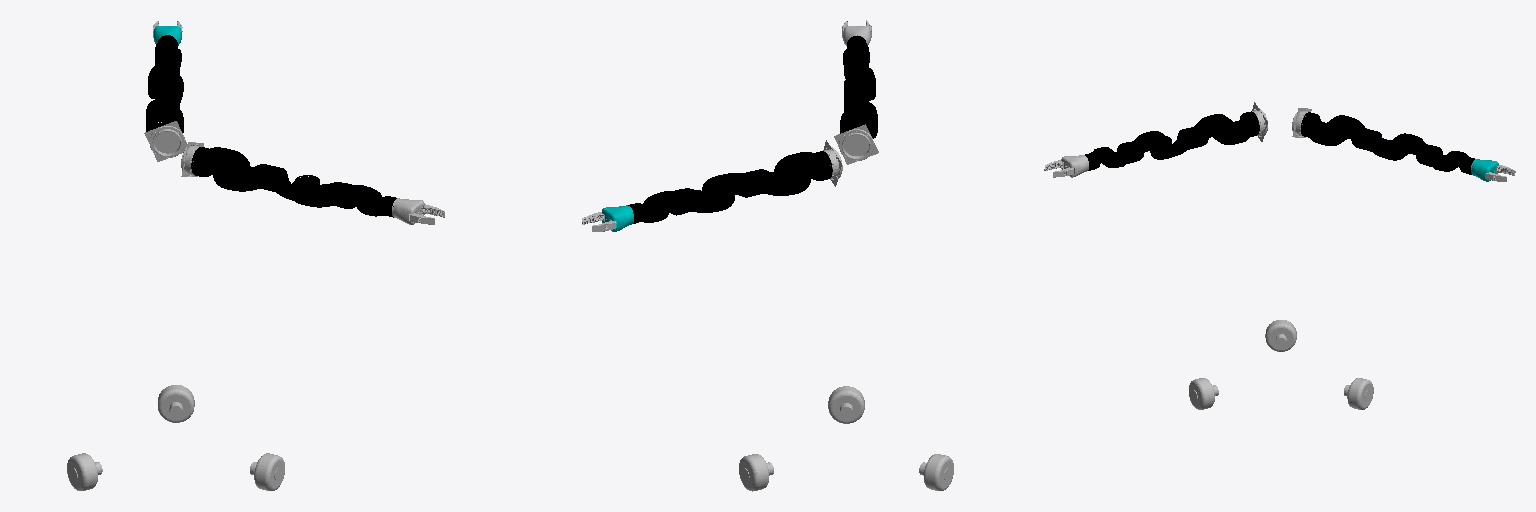
--- What the picture shows (computed from the rendered views, not written in the file) ---
Views: 3 orthographic renders of the robot side by side, from view 1: azimuth 30°, elevation 25°; view 2: azimuth 150°, elevation 25°; view 3: azimuth 270°, elevation 25°.
Robot: wust_robot — 27 links, 26 joints (18 revolute, 3 continuous, 5 fixed); root link base_dummy; default pose: all joints at 0.
Visible links, largest first — view 1: R_Link2, R_Link4, wheel_Link1, L_Link0, wheel_Link2, wheel_Link3, R_Link1, L_Link2, R_Link6, L_Link4, R_Link3, R_Link5 (+1 smaller); view 2: L_Link2, L_Link4, wheel_Link3, R_Link0, L_Link1, wheel_Link1, wheel_Link2, L_Link3, R_Link2, R_Link4, L_Link6, L_Link5 (+1 smaller); view 3: R_Link1, L_Link1, L_Link3, R_Link3, wheel_Link2, wheel_Link1, wheel_Link3, L_Link5, R_Link5, L_Link2, R_Link2.
Link boxes in pixels (left/top/right/bottom): R_Link2: left=212, top=158, right=275, bottom=191; R_Link4: left=290, top=178, right=347, bottom=207; wheel_Link1: left=158, top=385, right=194, bottom=422; L_Link0: left=144, top=121, right=187, bottom=161; wheel_Link2: left=67, top=453, right=102, bottom=490; wheel_Link3: left=250, top=453, right=284, bottom=490; R_Link1: left=191, top=147, right=250, bottom=176; L_Link2: left=146, top=91, right=179, bottom=131; R_Link6: left=356, top=194, right=396, bottom=217; L_Link4: left=148, top=57, right=179, bottom=98; R_Link3: left=269, top=167, right=319, bottom=200; R_Link5: left=340, top=184, right=381, bottom=208; L_Link2: left=748, top=163, right=811, bottom=195; L_Link4: left=678, top=184, right=734, bottom=213; wheel_Link3: left=828, top=386, right=864, bottom=423; R_Link0: left=834, top=124, right=878, bottom=164; L_Link1: left=774, top=151, right=832, bottom=180; wheel_Link1: left=739, top=454, right=773, bottom=491; wheel_Link2: left=919, top=454, right=953, bottom=490; L_Link3: left=702, top=172, right=755, bottom=197; R_Link2: left=844, top=93, right=877, bottom=138; R_Link4: left=844, top=58, right=875, bottom=100; L_Link6: left=628, top=200, right=669, bottom=223; L_Link5: left=643, top=190, right=685, bottom=215; R_Link1: left=1210, top=111, right=1259, bottom=144; L_Link1: left=1301, top=112, right=1349, bottom=145; L_Link3: left=1367, top=131, right=1411, bottom=160; R_Link3: left=1150, top=129, right=1193, bottom=159; wheel_Link2: left=1265, top=320, right=1296, bottom=351; wheel_Link1: left=1344, top=378, right=1373, bottom=409; wheel_Link3: left=1189, top=378, right=1218, bottom=409; L_Link5: left=1427, top=146, right=1460, bottom=171; R_Link5: left=1099, top=143, right=1132, bottom=167; L_Link2: left=1334, top=115, right=1373, bottom=150; R_Link2: left=1186, top=114, right=1225, bottom=148.
Bounding box of the posed robot: 0.9284 × 1.88 × 1.26 m (x, y, z).
Meshes: 24 distinct files referenced, 23 mesh visuals loaded (23 binary STL); not drawn: 1 (reference not matched to a file when rendering).

URDF robot description (wust_robot):
<robot name="wust_robot" xmlns:xacro="http://www.ros.org/wiki/xacro">

  <!-- ros_control plugin -->
  <gazebo>
    <plugin name="gazebo_ros_control" filename="libgazebo_ros_control.so">
      <robotNamespace>/wust_robot</robotNamespace>
      <robotSimType>gazebo_ros_control/DefaultRobotHWSim</robotSimType>
      <legacyModeNS>true</legacyModeNS>
    </plugin>
  </gazebo>
  <!-- vision -->
  <link 
    name="base_dummy">
  </link>
  <joint
    name="dummy_fixed"
    type="fixed">
    <origin
      xyz="0 0 0"
      rpy="0 0 0" />
    <parent
      link="base_dummy" />
    <child
      link="base_link" />
    <axis
      xyz="0 0 0" />
  </joint>
  <link
    name="base_link">
    <inertial>
      <origin
        xyz="-0.282456057127952 -0.00267891878170714 0.622280941979724"
        rpy="0 0 0" />
      <mass
        value="14.4253188552379" />
      <inertia
        ixx="3.4562626188067"
        ixy="0.000474831228141611"
        ixz="-0.0182515118494416"
        iyy="3.45013717258659"
        iyz="0.0116686710982095"
        izz="0.488384434698928" />
    </inertial>
    <visual>
      <origin
        xyz="0 0 0"
        rpy="0 0 0" />
      <geometry>
        <mesh
          filename="package://wust_description/meshes/base_link.STL" />
      </geometry>
      <material
        name="">
        <color
          rgba="0.752941176470588 0.752941176470588 0.752941176470588 1" />
      </material>
    </visual>
    <collision>
      <origin
        xyz="0 0 0"
        rpy="0 0 0" />
      <geometry>
        <mesh
          filename="package://wust_description/meshes/base_link.STL" />
      </geometry>
    </collision>
  </link>
  <link
    name="wheel_Link1">
    <inertial>
      <origin
        xyz="3.9820844399685E-09 -1.06505154001679E-09 -0.00320196573480341"
        rpy="0 0 0" />
      <mass
        value="0.784918417319531" />
      <inertia
        ixx="0.00103508205491259"
        ixy="-1.20506527899116E-09"
        ixz="-1.40770136975062E-11"
        iyy="0.00103511219307498"
        iyz="-1.29208313419764E-12"
        izz="0.00137479471522695" />
    </inertial>
    <visual>
      <origin
        xyz="0 0 0"
        rpy="0 0 0" />
      <geometry>
        <mesh
          filename="package://wust_description/meshes/wheel_Link1.STL" />
      </geometry>
      <material
        name="">
        <color
          rgba="0.752941176470588 0.752941176470588 0.752941176470588 1" />
      </material>
    </visual>
    <collision>
      <origin
        xyz="0 0 0"
        rpy="0 0 0" />
      <geometry>
        <mesh
          filename="package://wust_description/meshes/wheel_Link1.STL" />
      </geometry>
    </collision>
  </link>
  <joint
    name="wheel_joint1"
    type="continuous">
    <origin
      xyz="-0.103621086217595 0.316965297785102 0.0402"
      rpy="1.5707963267949 0 2.61799387799148" />
    <parent
      link="base_link" />
    <child
      link="wheel_Link1" />
    <axis
      xyz="0 0 1" />
  </joint>
  <link
    name="wheel_Link2">
    <inertial>
      <origin
        xyz="1.02918445724924E-12 -1.06505145675007E-09 -0.00320198442894559"
        rpy="0 0 0" />
      <mass
        value="0.784918417681748" />
      <inertia
        ixx="0.00103508209438553"
        ixy="-2.85682060113823E-09"
        ixz="1.1811141455231E-13"
        iyy="0.00103511223630421"
        iyz="-6.67148519845314E-12"
        izz="0.00137479472059587" />
    </inertial>
    <visual>
      <origin
        xyz="0 0 0"
        rpy="0 0 0" />
      <geometry>
        <mesh
          filename="package://wust_description/meshes/wheel_Link2.STL" />
      </geometry>
      <material
        name="">
        <color
          rgba="0.752941176470588 0.752941176470588 0.752941176470588 1" />
      </material>
    </visual>
    <collision>
      <origin
        xyz="0 0 0"
        rpy="0 0 0" />
      <geometry>
        <mesh
          filename="package://wust_description/meshes/wheel_Link2.STL" />
      </geometry>
    </collision>
  </link>
  <joint
    name="wheel_joint2"
    type="continuous">
    <origin
      xyz="-0.6526210862176 0 0.0402"
      rpy="1.5707963267949 7.49830360911069E-33 -1.57079632679489" />
    <parent
      link="base_link" />
    <child
      link="wheel_Link2" />
    <axis
      xyz="0 0 1" />
  </joint>
  <link
    name="wheel_Link3">
    <inertial>
      <origin
        xyz="-2.83100107245637E-09 -1.06505148450564E-09 -0.0032019617538914"
        rpy="0 0 0" />
      <mass
        value="0.784918417240751" />
      <inertia
        ixx="0.00103508206033524"
        ixy="-8.54796798948246E-10"
        ixz="9.34219241137575E-12"
        iyy="0.00103511220112508"
        iyz="-1.46548094353848E-13"
        izz="0.00137479471751099" />
    </inertial>
    <visual>
      <origin
        xyz="0 0 0"
        rpy="0 0 0" />
      <geometry>
        <mesh
          filename="package://wust_description/meshes/wheel_Link3.STL" />
      </geometry>
      <material
        name="">
        <color
          rgba="0.752941176470588 0.752941176470588 0.752941176470588 1" />
      </material>
    </visual>
    <collision>
      <origin
        xyz="0 0 0"
        rpy="0 0 0" />
      <geometry>
        <mesh
          filename="package://wust_description/meshes/wheel_Link3.STL" />
      </geometry>
    </collision>
  </link>
  <joint
    name="wheel_joint3"
    type="continuous">
    <origin
      xyz="-0.103621086217593 -0.316965297785103 0.0402"
      rpy="1.5707963267949 0 0.523598775598322" />
    <parent
      link="base_link" />
    <child
      link="wheel_Link3" />
    <axis
      xyz="0 0 -1" />
  </joint>
  <link
    name="L_Link0">
    <inertial>
      <origin
        xyz="0.705266192814606 -0.0627195172889259 -0.0503860562980592"
        rpy="0 0 0" />
      <mass
        value="44.853625943199" />
      <inertia
        ixx="3.32145697780635"
        ixy="-0.74241340594277"
        ixz="0.341583202603584"
        iyy="11.1763392645878"
        iyz="-0.355318284503215"
        izz="10.776023534484" />
    </inertial>
    <visual>
      <origin
        xyz="0 0 0"
        rpy="0 0 0" />
      <geometry>
        <mesh
          filename="package://wust_description/meshes/L_Link0.STL" />
      </geometry>
      <material
        name="">
        <color
          rgba="0.752941176470588 0.752941176470588 0.752941176470588 1" />
      </material>
    </visual>
    <collision>
      <origin
        xyz="0 0 0"
        rpy="0 0 0" />
      <geometry>
        <mesh
          filename="package://wust_description/meshes/L_Link0.STL" />
      </geometry>
    </collision>
  </link>
  <joint
    name="L_fixed"
    type="fixed">
    <origin
      xyz="-0.277216673276884 0.076446811665885 1.15429750765682"
      rpy="3.14159265358934 1.56054089882637 -2.09612569168172" />
    <parent
      link="base_link" />
    <child
      link="L_Link0" />
    <axis
      xyz="0 0 0" />
  </joint>
  <link
    name="L_Link1">
    <inertial>
      <origin
        xyz="-4.0159777786597E-05 -0.015653004325108 0.0601130386374142"
        rpy="0 0 0" />
      <mass
        value="0.225999459202375" />
      <inertia
        ixx="0.000855101108306437"
        ixy="1.28543240450078E-07"
        ixz="6.24868513140585E-07"
        iyy="0.000896245950407909"
        iyz="6.58582596095602E-05"
        izz="0.000416139417054559" />
    </inertial>
    <visual>
      <origin
        xyz="0 0 0"
        rpy="0 0 0" />
      <geometry>
        <mesh
          filename="package://wust_description/meshes/L_Link1.STL" />
      </geometry>
      <material
        name="">
        <color
          rgba="0 0 0 1" />
      </material>
    </visual>
    <collision>
      <origin
        xyz="0 0 0"
        rpy="0 0 0" />
      <geometry>
        <mesh
          filename="package://wust_description/meshes/L_Link1.STL" />
      </geometry>
    </collision>
  </link>
  <joint
    name="L_joint1"
    type="revolute">
    <origin
      xyz="0 0 0.0575"
      rpy="-3.6214E-14 -1.1852E-14 -8.874E-06" />
    <parent
      link="L_Link0" />
    <child
      link="L_Link1" />
    <axis
      xyz="0 0 1" />
    <limit
      lower="-3.05"
      upper="3.05"
      effort="90"
      velocity="1.31" />
  </joint>
  <link
    name="L_Link2">
    <inertial>
      <origin
        xyz="0.000857159054628243 -0.0688556150992963 -0.0219475431582306"
        rpy="0 0 0" />
      <mass
        value="0.211155173164178" />
      <inertia
        ixx="0.000996806168469419"
        ixy="7.3550506125828E-06"
        ixz="3.30420389247608E-06"
        iyy="0.000405576840374363"
        iyz="-0.000263492222121102"
        izz="0.000942075280953054" />
    </inertial>
    <visual>
      <origin
        xyz="0 0 0"
        rpy="0 0 0" />
      <geometry>
        <mesh
          filename="package://wust_description/meshes/L_Link2.STL" />
      </geometry>
      <material
        name="">
        <color
          rgba="0 0 0 1" />
      </material>
    </visual>
    <collision>
      <origin
        xyz="0 0 0"
        rpy="0 0 0" />
      <geometry>
        <mesh
          filename="package://wust_description/meshes/L_Link2.STL" />
      </geometry>
    </collision>
  </link>
  <joint
    name="L_joint2"
    type="revolute">
    <origin
      xyz="0.00020127 0.052 0.107"
      rpy="-1.5708 -0.012504 -0.0038706" />
    <parent
      link="L_Link1" />
    <child
      link="L_Link2" />
    <axis
      xyz="0 0 1" />
    <limit
      lower="-2.09"
      upper="2.09"
      effort="67"
      velocity="1.31" />
  </joint>
  <link
    name="L_Link3">
    <inertial>
      <origin
        xyz="-0.000502019625280514 -0.0161731705290906 0.0585188339670352"
        rpy="0 0 0" />
      <mass
        value="0.17490126281718" />
      <inertia
        ixx="0.000566836297288879"
        ixy="1.50176831737644E-07"
        ixz="3.0220302432855E-07"
        iyy="0.000579069255779677"
        iyz="3.49864551490562E-05"
        izz="0.000240420030304234" />
    </inertial>
    <visual>
      <origin
        xyz="0 0 0"
        rpy="0 0 0" />
      <geometry>
        <mesh
          filename="package://wust_description/meshes/L_Link3.STL" />
      </geometry>
      <material
        name="">
        <color
          rgba="0 0 0 1" />
      </material>
    </visual>
    <collision>
      <origin
        xyz="0 0 0"
        rpy="0 0 0" />
      <geometry>
        <mesh
          filename="package://wust_description/meshes/L_Link3.STL" />
      </geometry>
    </collision>
  </link>
  <joint
    name="L_joint3"
    type="revolute">
    <origin
      xyz="0.0028116 -0.19068 -0.051998"
      rpy="1.5708 -0.0038795 0.012504" />
    <parent
      link="L_Link2" />
    <child
      link="L_Link3" />
    <axis
      xyz="0 0 1" />
    <limit
      lower="-3.05"
      upper="3.05"
      effort="67"
      velocity="1.31" />
  </joint>
  <link
    name="L_Link4">
    <inertial>
      <origin
        xyz="0.000816124678452379 -0.0673789710997609 -0.0227669323131372"
        rpy="0 0 0" />
      <mass
        value="0.139141420083307" />
      <inertia
        ixx="0.000567296285866421"
        ixy="4.51473982393015E-06"
        ixz="1.91083305732675E-06"
        iyy="0.000225919086974947"
        iyz="-0.000151217366445457"
        izz="0.000540296323987622" />
    </inertial>
    <visual>
      <origin
        xyz="0 0 0"
        rpy="0 0 0" />
      <geometry>
        <mesh
          filename="package://wust_description/meshes/L_Link4.STL" />
      </geometry>
      <material
        name="">
        <color
          rgba="0 0 0 1" />
      </material>
    </visual>
    <collision>
      <origin
        xyz="0 0 0"
        rpy="0 0 0" />
      <geometry>
        <mesh
          filename="package://wust_description/meshes/L_Link4.STL" />
      </geometry>
    </collision>
  </link>
  <joint
    name="L_joint4"
    type="revolute">
    <origin
      xyz="-0.00023443 0.0497 0.1013"
      rpy="-1.5708 -0.012504 -0.0038795" />
    <parent
      link="L_Link3" />
    <child
      link="L_Link4" />
    <axis
      xyz="0 0 1" />
    <limit
      lower="-2.09"
      upper="2.09"
      effort="67"
      velocity="1.31" />
  </joint>
  <link
    name="L_Link5">
    <inertial>
      <origin
        xyz="-4.29302388333941E-05 -0.0122054737796106 0.0309080422538341"
        rpy="0 0 0" />
      <mass
        value="0.0974185999004769" />
      <inertia
        ixx="0.000193993766789427"
        ixy="-1.08254354952353E-08"
        ixz="1.12868062833039E-07"
        iyy="0.00019239222707744"
        iyz="2.59299774245076E-05"
        izz="0.000116052022560686" />
    </inertial>
    <visual>
      <origin
        xyz="0 0 0"
        rpy="0 0 0" />
      <geometry>
        <mesh
          filename="package://wust_description/meshes/L_Link5.STL" />
      </geometry>
      <material
        name="">
        <color
          rgba="0 0 0 1" />
      </material>
    </visual>
    <collision>
      <origin
        xyz="0 0 0"
        rpy="0 0 0" />
      <geometry>
        <mesh
          filename="package://wust_description/meshes/L_Link5.STL" />
      </geometry>
    </collision>
  </link>
  <joint
    name="L_joint5"
    type="revolute">
    <origin
      xyz="0.0021781 -0.17419 -0.0497"
      rpy="1.5708 -0.0038795 0.012504" />
    <parent
      link="L_Link4" />
    <child
      link="L_Link5" />
    <axis
      xyz="0 0 1" />
    <limit
      lower="-3.05"
      upper="3.05"
      effort="67"
      velocity="1.57" />
  </joint>
  <link
    name="L_Link6">
    <inertial>
      <origin
        xyz="0.000578002589833648 -0.0463011867222332 -0.0205916885454552"
        rpy="0 0 0" />
      <mass
        value="0.0709945582242612" />
      <inertia
        ixx="0.000150339550887913"
        ixy="9.87375759106794E-07"
        ixz="4.30166297877036E-07"
        iyy="6.97108294544225E-05"
        iyz="-3.5343957204107E-05"
        izz="0.000145966265729034" />
    </inertial>
    <visual>
      <origin
        xyz="0 0 0"
        rpy="0 0 0" />
      <geometry>
        <mesh
          filename="package://wust_description/meshes/L_Link6.STL" />
      </geometry>
      <material
        name="">
        <color
          rgba="0 0 0 1" />
      </material>
    </visual>
    <collision>
      <origin
        xyz="0 0 0"
        rpy="0 0 0" />
      <geometry>
        <mesh
          filename="package://wust_description/meshes/L_Link6.STL" />
      </geometry>
    </collision>
  </link>
  <joint
    name="L_joint6"
    type="revolute">
    <origin
      xyz="0.00013617 0.0351 0.0678"
      rpy="-1.5708 -0.012504 -0.0038795" />
    <parent
      link="L_Link5" />
    <child
      link="L_Link6" />
    <axis
      xyz="0 0 1" />
    <limit
      lower="-2.09"
      upper="2.09"
      effort="67"
      velocity="1.57" />
  </joint>
  <link
    name="L_Link7">
    <inertial>
      <origin
        xyz="4.60523932030998E-05 8.96532549587992E-07 0.0214613080243774"
        rpy="0 0 0" />
      <mass
        value="0.0695914757417431" />
      <inertia
        ixx="0.000100578251230889"
        ixy="-5.19958958347689E-08"
        ixz="-5.45711696596719E-08"
        iyy="8.85989894975448E-05"
        iyz="6.1563019797787E-09"
        izz="8.88086576481483E-05" />
    </inertial>
    <visual>
      <origin
        xyz="0 0 0"
        rpy="0 0 0" />
      <geometry>
        <mesh
          filename="package://wust_description/meshes/L_Link7.STL" />
      </geometry>
      <material
        name="">
        <color
          rgba="0 0.752941176470588 0.752941176470588 1" />
      </material>
    </visual>
    <collision>
      <origin
        xyz="0 0 0"
        rpy="0 0 0" />
      <geometry>
        <mesh
          filename="package://wust_description/meshes/L_Link7.STL" />
      </geometry>
    </collision>
  </link>
  <joint
    name="L_joint7"
    type="revolute">
    <origin
      xyz="0.0016142 -0.12909 -0.0351"
      rpy="1.5708 -0.0038795 0.012504" />
    <parent
      link="L_Link6" />
    <child
      link="L_Link7" />
    <axis
      xyz="0 0 1" />
    <limit
      lower="-3.05"
      upper="3.05"
      effort="33"
      velocity="1.57" />
  </joint>
    <link
    name="L_ee" />
  <joint
    name="L_end_fixed"
    type="fixed">
    <origin
      xyz="0 0 0.105"
      rpy="0 0 0" />
    <parent
      link="L_Link7" />
    <child
      link="L_ee" />
    <axis
      xyz="0 0 0" />
  </joint>
  <link
    name="L_left_finger">
    <inertial>
      <origin
        xyz="0.0320300911336966 0.0191580149745619 1.65254374870916E-05"
        rpy="0 0 0" />
      <mass
        value="0.0222031203695293" />
      <inertia
        ixx="2.94895437947066E-06"
        ixy="-2.74026245995243E-06"
        ixz="3.4899894490545E-09"
        iyy="1.31997477985414E-05"
        iyz="-1.52393790279087E-09"
        izz="1.31922323060758E-05" />
    </inertial>
    <visual>
      <origin
        xyz="0 0 0"
        rpy="0 0 0" />
      <geometry>
        <mesh
          filename="package://wust_description/meshes/L_left_finger.STL" />
      </geometry>
      <material
        name="">
        <color
          rgba="0.752941176470588 0.752941176470588 0.752941176470588 1" />
      </material>
    </visual>
    <collision>
      <origin
        xyz="0 0 0"
        rpy="0 0 0" />
      <geometry>
        <mesh
          filename="package://wust_description/meshes/L_left_finger.STL" />
      </geometry>
    </collision>
  </link>
  <joint
    name="L_left_joint"
    type="revolute">
    <origin
      xyz="0.00010863 0.028 0.0584"
      rpy="1.5708 -1.3107 -1.5747" />
    <parent
      link="L_Link7" />
    <child
      link="L_left_finger" />
    <axis
      xyz="0 0 1" />
    <limit
      lower="-0.36"
      upper="0.36"
      effort="33"
      velocity="1.57" />
  </joint>
  <link
    name="L_right_finger">
    <inertial>
      <origin
        xyz="0.0374350483372549 -0.000661225509474506 -1.65200352733041E-05"
        rpy="0 0 0" />
      <mass
        value="0.0222031598698606" />
      <inertia
        ixx="2.96928300709427E-06"
        ixy="-2.85846959892981E-06"
        ixz="-2.56668795513894E-09"
        iyy="1.31704010800968E-05"
        iyz="-2.89707246580859E-09"
        izz="1.31832096813533E-05" />
    </inertial>
    <visual>
      <origin
        xyz="0 0 0"
        rpy="0 0 0" />
      <geometry>
        <mesh
          filename="package://wust_description/meshes/L_right_finger.STL" />
      </geometry>
      <material
        name="">
        <color
          rgba="0.752941176470588 0.752941176470588 0.752941176470588 1" />
      </material>
    </visual>
    <collision>
      <origin
        xyz="0 0 0"
        rpy="0 0 0" />
      <geometry>
        <mesh
          filename="package://wust_description/meshes/L_right_finger.STL" />
      </geometry>
    </collision>
  </link>
  <joint
    name="L_right_joint"
    type="revolute">
    <origin
      xyz="-0.00010863 -0.028 0.0584"
      rpy="1.5708 -1.3107 -1.5747" />
    <parent
      link="L_Link7" />
    <child
      link="L_right_finger" />
    <axis
      xyz="0 0 1" />
    <limit
      lower="-0.36"
      upper="0.36"
      effort="33"
      velocity="1.57" />
  </joint>


<!--transmission-->
  <transmission name="tran1">
    <type>transmission_interface/SimpleTransmission</type>
    <joint name="L_joint1">
      <hardwareInterface>hardware_interface/PositionJointInterface</hardwareInterface>
    </joint>
    <actuator name="motor1">
      <hardwareInterface>PositionJointInterface</hardwareInterface>
      <mechanicalReduction>1</mechanicalReduction>
    </actuator>
  </transmission>
  <transmission name="tran2">
    <type>transmission_interface/SimpleTransmission</type>
    <joint name="L_joint2">
      <hardwareInterface>hardware_interface/PositionJointInterface</hardwareInterface>
    </joint>
    <actuator name="motor2">
      <hardwareInterface>PositionJointInterface</hardwareInterface>
      <mechanicalReduction>1</mechanicalReduction>
    </actuator>
  </transmission>
  <transmission name="tran3">
    <type>transmission_interface/SimpleTransmission</type>
    <joint name="L_joint3">
      <hardwareInterface>hardware_interface/PositionJointInterface</hardwareInterface>
    </joint>
    <actuator name="motor3">
      <hardwareInterface>PositionJointInterface</hardwareInterface>
      <mechanicalReduction>1</mechanicalReduction>
    </actuator>
  </transmission>
  <transmission name="tran4">
    <type>transmission_interface/SimpleTransmission</type>
    <joint name="L_joint4">
      <hardwareInterface>hardware_interface/PositionJointInterface</hardwareInterface>
    </joint>
    <actuator name="motor4">
      <hardwareInterface>PositionJointInterface</hardwareInterface>
      <mechanicalReduction>1</mechanicalReduction>
    </actuator>
  </transmission>
  <transmission name="tran5">
    <type>transmission_interface/SimpleTransmission</type>
    <joint name="L_joint5">
      <hardwareInterface>hardware_interface/PositionJointInterface</hardwareInterface>
    </joint>
    <actuator name="motor5">
      <hardwareInterface>PositionJointInterface</hardwareInterface>
      <mechanicalReduction>1</mechanicalReduction>
    </actuator>
  </transmission>
  <transmission name="tran6">
    <type>transmission_interface/SimpleTransmission</type>
    <joint name="L_joint6">
      <hardwareInterface>hardware_interface/PositionJointInterface</hardwareInterface>
    </joint>
    <actuator name="motor6">
      <hardwareInterface>PositionJointInterface</hardwareInterface>
      <mechanicalReduction>1</mechanicalReduction>
    </actuator>
  </transmission>
  <transmission name="tran7">
    <type>transmission_interface/SimpleTransmission</type>
    <joint name="L_joint7">
      <hardwareInterface>hardware_interface/PositionJointInterface</hardwareInterface>
    </joint>
    <actuator name="motor7">
      <hardwareInterface>PositionJointInterface</hardwareInterface>
      <mechanicalReduction>1</mechanicalReduction>
    </actuator>
  </transmission>
  <transmission name="tran15">
    <type>transmission_interface/SimpleTransmission</type>
    <joint name="L_left_joint">
      <hardwareInterface>hardware_interface/PositionJointInterface</hardwareInterface>
    </joint>
    <actuator name="motor15">
      <hardwareInterface>PositionJointInterface</hardwareInterface>
      <mechanicalReduction>1</mechanicalReduction>
    </actuator>
  </transmission>
  <transmission name="tran16">
    <type>transmission_interface/SimpleTransmission</type>
    <joint name="L_right_joint">
      <hardwareInterface>hardware_interface/PositionJointInterface</hardwareInterface>
    </joint>
    <actuator name="motor16">
      <hardwareInterface>PositionJointInterface</hardwareInterface>
      <mechanicalReduction>1</mechanicalReduction>
    </actuator>
  </transmission>
  <link
    name="R_Link0">
    <inertial>
      <origin
        xyz="-0.705949833172948 -0.0617435688739331 -0.0519210684295457"
        rpy="0 0 0" />
      <mass
        value="44.853625943199" />
      <inertia
        ixx="3.33720255902963"
        ixy="0.737896795651011"
        ixz="-0.500242298772014"
        iyy="11.1713304904581"
        iyz="-0.344327204273434"
        izz="10.7652867273904" />
    </inertial>
    <visual>
      <origin
        xyz="0 0 0"
        rpy="0 0 0" />
      <geometry>
        <mesh
          filename="package://wust_description/meshes/R_Link0.STL" />
      </geometry>
      <material
        name="">
        <color
          rgba="0.752941176470588 0.752941176470588 0.752941176470588 1" />
      </material>
    </visual>
    <collision>
      <origin
        xyz="0 0 0"
        rpy="0 0 0" />
      <geometry>
        <mesh
          filename="package://wust_description/meshes/R_Link0.STL" />
      </geometry>
    </collision>
  </link>
  <joint
    name="R_fixed"
    type="fixed">
    <origin
      xyz="-0.282475067184404 -0.0754489025211679 1.1559501936252"
      rpy="0 -1.56230906164837 2.09271386565402" />
    <parent
      link="base_link" />
    <child
      link="R_Link0" />
    <axis
      xyz="0 0 0" />
  </joint>
  <link
    name="R_Link1">
    <inertial>
      <origin
        xyz="-8.80730212726721E-05 -0.0156519826446752 0.0601157869098909"
        rpy="0 0 0" />
      <mass
        value="0.225988503121511" />
      <inertia
        ixx="0.000855056493906698"
        ixy="2.56076634162902E-07"
        ixz="8.29560067349577E-07"
        iyy="0.000896207358258186"
        iyz="6.58679338631612E-05"
        izz="0.000416131483281957" />
    </inertial>
    <visual>
      <origin
        xyz="0 0 0"
        rpy="0 0 0" />
      <geometry>
        <mesh
          filename="package://wust_description/meshes/R_Link1.STL" />
      </geometry>
      <material
        name="">
        <color
          rgba="0 0 0 1" />
      </material>
    </visual>
    <collision>
      <origin
        xyz="0 0 0"
        rpy="0 0 0" />
      <geometry>
        <mesh
          filename="package://wust_description/meshes/R_Link1.STL" />
      </geometry>
    </collision>
  </link>
  <joint
    name="R_joint1"
    type="revolute">
    <origin
      xyz="0 0 0.0675"
      rpy="5.0515E-14 6.1947E-15 4.2848E-16" />
    <parent
      link="R_Link0" />
    <child
      link="R_Link1" />
    <axis
      xyz="0 0 -1" />
    <limit
      lower="-3.05"
      upper="3.05"
      effort="90"
      velocity="1.31" />
  </joint>
  <link
    name="R_Link2">
    <inertial>
      <origin
        xyz="0.000855446580233066 -0.0688556657921779 -0.0219476027776706"
        rpy="0 0 0" />
      <mass
        value="0.211155390534302" />
      <inertia
        ixx="0.00099680716736445"
        ixy="7.34046811397391E-06"
        ixz="3.29819398216188E-06"
        iyy="0.000405576719828959"
        iyz="-0.0002634922825042"
        izz="0.000942075587938668" />
    </inertial>
    <visual>
      <origin
        xyz="0 0 0"
        rpy="0 0 0" />
      <geometry>
        <mesh
          filename="package://wust_description/meshes/R_Link2.STL" />
      </geometry>
      <material
        name="">
        <color
          rgba="0 0 0 1" />
      </material>
    </visual>
    <collision>
      <origin
        xyz="0 0 0"
        rpy="0 0 0" />
      <geometry>
        <mesh
          filename="package://wust_description/meshes/R_Link2.STL" />
      </geometry>
    </collision>
  </link>
  <joint
    name="R_joint2"
    type="revolute">
    <origin
      xyz="0.00036098 0.051999 0.107"
      rpy="-1.5708 -0.012479 -0.006942" />
    <parent
      link="R_Link1" />
    <child
      link="R_Link2" />
    <axis
      xyz="0 0 1" />
    <limit
      lower="-2.09"
      upper="2.09"
      effort="90"
      velocity="1.31" />
  </joint>
  <link
    name="R_Link3">
    <inertial>
      <origin
        xyz="0.0161728550503238 -0.000124308636626713 0.0585188481364758"
        rpy="0 0 0" />
      <mass
        value="0.174901365038314" />
      <inertia
        ixx="0.00057906863650209"
        ixy="-1.87641076312814E-07"
        ixz="-3.49852208079504E-05"
        iyy="0.000566837830675694"
        iyz="4.09346511538633E-07"
        izz="0.000240420085764592" />
    </inertial>
    <visual>
      <origin
        xyz="0 0 0"
        rpy="0 0 0" />
      <geometry>
        <mesh
          filename="package://wust_description/meshes/R_Link3.STL" />
      </geometry>
      <material
        name="">
        <color
          rgba="0 0 0 1" />
      </material>
    </visual>
    <collision>
      <origin
        xyz="0 0 0"
        rpy="0 0 0" />
      <geometry>
        <mesh
          filename="package://wust_description/meshes/R_Link3.STL" />
      </geometry>
    </collision>
  </link>
  <joint
    name="R_joint3"
    type="revolute">
    <origin
      xyz="0.0023797 -0.19069 -0.052"
      rpy="1.5708 1.5639 0.012479" />
    <parent
      link="R_Link2" />
    <child
      link="R_Link3" />
    <axis
      xyz="0 0 -1" />
    <limit
      lower="-3.05"
      upper="3.05"
      effort="67"
      velocity="1.31" />
  </joint>
  <link
    name="R_Link4">
    <inertial>
      <origin
        xyz="0.000814622172446322 -0.0673803573274671 -0.0227673778995149"
        rpy="0 0 0" />
      <mass
        value="0.139139841811024" />
      <inertia
        ixx="0.000567281709376824"
        ixy="4.50372009169932E-06"
        ixz="1.90649602099204E-06"
        iyy="0.000225916537752781"
        iyz="-0.000151211158915554"
        izz="0.000540282597292521" />
    </inertial>
    <visual>
      <origin
        xyz="0 0 0"
        rpy="0 0 0" />
      <geometry>
        <mesh
          filename="package://wust_description/meshes/R_Link4.STL" />
      </geometry>
      <material
        name="">
        <color
          rgba="0 0 0 1" />
      </material>
    </visual>
    <collision>
      <origin
        xyz="0 0 0"
        rpy="0 0 0" />
      <geometry>
        <mesh
          filename="package://wust_description/meshes/R_Link4.STL" />
      </geometry>
    </collision>
  </link>
  <joint
    name="R_joint4"
    type="revolute">
    <origin
      xyz="-0.049699 0.00034501 0.1013"
      rpy="-1.5708 -0.012479 1.5639" />
    <parent
      link="R_Link3" />
    <child
      link="R_Link4" />
    <axis
      xyz="0 0 1" />
    <limit
      lower="-2.09"
      upper="2.09"
      effort="67"
      velocity="1.31" />
  </joint>
  <link
    name="R_Link5">
    <inertial>
      <origin
        xyz="-8.04049554077313E-05 -0.0122051722652333 0.0309080273200113"
        rpy="0 0 0" />
      <mass
        value="0.0974186684459912" />
      <inertia
        ixx="0.000193994421429874"
        ixy="-1.48548666583307E-08"
        ixz="1.92068366693569E-07"
        iyy="0.000192391962541337"
        iyz="2.59297672559566E-05"
        izz="0.000116052373510122" />
    </inertial>
    <visual>
      <origin
        xyz="0 0 0"
        rpy="0 0 0" />
      <geometry>
        <mesh
          filename="package://wust_description/meshes/R_Link5.STL" />
      </geometry>
      <material
        name="">
        <color
          rgba="0 0 0 1" />
      </material>
    </visual>
    <collision>
      <origin
        xyz="0 0 0"
        rpy="0 0 0" />
      <geometry>
        <mesh
          filename="package://wust_description/meshes/R_Link5.STL" />
      </geometry>
    </collision>
  </link>
  <joint
    name="R_joint5"
    type="revolute">
    <origin
      xyz="0.0021738 -0.17419 -0.0497"
      rpy="1.5708 -0.006942 0.012479" />
    <parent
      link="R_Link4" />
    <child
      link="R_Link5" />
    <axis
      xyz="0 0 -1" />
    <limit
      lower="-3.05"
      upper="3.05"
      effort="67"
      velocity="1.57" />
  </joint>
  <link
    name="R_Link6">
    <inertial>
      <origin
        xyz="0.000576883033946318 -0.0463012841468418 -0.0205917105833054"
        rpy="0 0 0" />
      <mass
        value="0.0709944248375274" />
      <inertia
        ixx="0.000150339079631084"
        ixy="9.85293191132637E-07"
        ixz="4.29279485125423E-07"
        iyy="6.97107575080967E-05"
        iyz="-3.53438629902347E-05"
        izz="0.000145965793514426" />
    </inertial>
    <visual>
      <origin
        xyz="0 0 0"
        rpy="0 0 0" />
      <geometry>
        <mesh
          filename="package://wust_description/meshes/R_Link6.STL" />
      </geometry>
      <material
        name="">
        <color
          rgba="0 0 0 1" />
      </material>
    </visual>
    <collision>
      <origin
        xyz="0 0 0"
        rpy="0 0 0" />
      <geometry>
        <mesh
          filename="package://wust_description/meshes/R_Link6.STL" />
      </geometry>
    </collision>
  </link>
  <joint
    name="R_joint6"
    type="revolute">
    <origin
      xyz="0.00024366 0.035099 0.0678"
      rpy="-1.5708 -0.012479 -0.006942" />
    <parent
      link="R_Link5" />
    <child
      link="R_Link6" />
    <axis
      xyz="0 0 1" />
    <limit
      lower="-2.09"
      upper="2.09"
      effort="67"
      velocity="1.57" />
  </joint>
  <link
    name="R_Link7">
    <inertial>
      <origin
        xyz="4.59025706534E-05 7.68261343375709E-07 0.0214611806756081"
        rpy="0 0 0" />
      <mass
        value="0.0695919740838392" />
      <inertia
        ixx="0.000100577880897543"
        ixy="-8.86467756941043E-08"
        ixz="-5.47756907756865E-08"
        iyy="8.85997556235195E-05"
        iyz="6.35168908512497E-09"
        izz="8.88089262054172E-05" />
    </inertial>
    <visual>
      <origin
        xyz="0 0 0"
        rpy="0 0 0" />
      <geometry>
        <mesh
          filename="package://wust_description/meshes/R_Link7.STL" />
      </geometry>
      <material
        name="">
        <color
          rgba="0.752941176470588 0.752941176470588 0.752941176470588 1" />
      </material>
    </visual>
    <collision>
      <origin
        xyz="0 0 0"
        rpy="0 0 0" />
      <geometry>
        <mesh
          filename="package://wust_description/meshes/R_Link7.STL" />
      </geometry>
    </collision>
  </link>
  <joint
    name="R_joint7"
    type="revolute">
    <origin
      xyz="0.001611 -0.12909 -0.0351"
      rpy="1.5708 -0.006942 0.012479" />
    <parent
      link="R_Link6" />
    <child
      link="R_Link7" />
    <axis
      xyz="0 0 -1" />
    <limit
      lower="-3.05"
      upper="3.05"
      effort="33"
      velocity="1.57" />
  </joint>
   <link
    name="R_ee" />
  <joint
    name="R_end_fixed"
    type="fixed">
    <origin
      xyz="0 0 0.105"
      rpy="0 0 0" />
    <parent
      link="R_Link7" />
    <child
      link="R_ee" />
    <axis
      xyz="0 0 0" />
  </joint>
  <link
    name="R_left_finger">
    <inertial>
      <origin
        xyz="0.0260955520414758 0.0268485052033584 1.65200056947423E-05"
        rpy="0 0 0" />
      <mass
        value="0.0222031599135879" />
      <inertia
        ixx="5.17634121269432E-06"
        ixy="-5.08076804886169E-06"
        ixz="3.86266085031823E-09"
        iyy="1.09633428776348E-05"
        iyz="-2.46941553094242E-10"
        izz="1.31832096779791E-05" />
    </inertial>
    <visual>
      <origin
        xyz="0 0 0"
        rpy="0 0 0" />
      <geometry>
        <mesh
          filename="package://wust_description/meshes/R_left_finger.STL" />
      </geometry>
      <material
        name="">
        <color
          rgba="0.752941176470588 0.752941176470588 0.752941176470588 1" />
      </material>
    </visual>
    <collision>
      <origin
        xyz="0 0 0"
        rpy="0 0 0" />
      <geometry>
        <mesh
          filename="package://wust_description/meshes/R_left_finger.STL" />
      </geometry>
    </collision>
  </link>
  <joint
    name="R_left_joint"
    type="revolute">
    <origin
      xyz="-0.00019437 -0.027999 0.0584"
      rpy="1.5708 -1.0489 1.5639" />
    <parent
      link="R_Link7" />
    <child
      link="R_left_finger" />
    <axis
      xyz="0 0 1" />
    <limit
      lower="-0.36"
      upper="0.36"
      effort="33"
      velocity="1.57" />
  </joint>
  <link
    name="R_right_finger">
    <inertial>
      <origin
        xyz="0.00900671737878617 -0.0361870762451453 -1.66044539418042E-05"
        rpy="0 0 0" />
      <mass
        value="0.0220974515411977" />
      <inertia
        ixx="1.08405524540199E-05"
        ixy="5.11180404952525E-06"
        ixz="-3.55147285865026E-09"
        iyy="5.2928488567163E-06"
        iyz="1.38783715685343E-09"
        izz="1.31808678174572E-05" />
    </inertial>
    <visual>
      <origin
        xyz="0 0 0"
        rpy="0 0 0" />
      <geometry>
        <mesh
          filename="package://wust_description/meshes/R_right_finger.STL" />
      </geometry>
      <material
        name="">
        <color
          rgba="0.752941176470588 0.752941176470588 0.752941176470588 1" />
      </material>
    </visual>
    <collision>
      <origin
        xyz="0 0 0"
        rpy="0 0 0" />
      <geometry>
        <mesh
          filename="package://wust_description/meshes/R_right_finger.STL" />
      </geometry>
    </collision>
  </link>
  <joint
    name="R_right_joint"
    type="revolute">
    <origin
      xyz="0.00019437 0.027999 0.0584"
      rpy="-1.5708 -0.52188 -1.5777" />
    <parent
      link="R_Link7" />
    <child
      link="R_right_finger" />
    <axis
      xyz="0 0 1" />
    <limit
      lower="-0.36"
      upper="0.36"
      effort="33"
      velocity="1.57" />
  </joint>

<transmission name="tran8">
    <type>transmission_interface/SimpleTransmission</type>
    <joint name="R_joint1">
      <hardwareInterface>hardware_interface/PositionJointInterface</hardwareInterface>
    </joint>
    <actuator name="motor8">
      <hardwareInterface>PositionJointInterface</hardwareInterface>
      <mechanicalReduction>1</mechanicalReduction>
    </actuator>
  </transmission>
  <transmission name="tran9">
    <type>transmission_interface/SimpleTransmission</type>
    <joint name="R_joint2">
      <hardwareInterface>hardware_interface/PositionJointInterface</hardwareInterface>
    </joint>
    <actuator name="motor9">
      <hardwareInterface>PositionJointInterface</hardwareInterface>
      <mechanicalReduction>1</mechanicalReduction>
    </actuator>
  </transmission>
  <transmission name="tran10">
    <type>transmission_interface/SimpleTransmission</type>
    <joint name="R_joint3">
      <hardwareInterface>hardware_interface/PositionJointInterface</hardwareInterface>
    </joint>
    <actuator name="motor10">
      <hardwareInterface>PositionJointInterface</hardwareInterface>
      <mechanicalReduction>1</mechanicalReduction>
    </actuator>
  </transmission>
  <transmission name="tran11">
    <type>transmission_interface/SimpleTransmission</type>
    <joint name="R_joint4">
      <hardwareInterface>hardware_interface/PositionJointInterface</hardwareInterface>
    </joint>
    <actuator name="motor11">
      <hardwareInterface>PositionJointInterface</hardwareInterface>
      <mechanicalReduction>1</mechanicalReduction>
    </actuator>
  </transmission>
  <transmission name="tran12">
    <type>transmission_interface/SimpleTransmission</type>
    <joint name="R_joint5">
      <hardwareInterface>hardware_interface/PositionJointInterface</hardwareInterface>
    </joint>
    <actuator name="motor12">
      <hardwareInterface>PositionJointInterface</hardwareInterface>
      <mechanicalReduction>1</mechanicalReduction>
    </actuator>
  </transmission>
  <transmission name="tran13">
    <type>transmission_interface/SimpleTransmission</type>
    <joint name="R_joint6">
      <hardwareInterface>hardware_interface/PositionJointInterface</hardwareInterface>
    </joint>
    <actuator name="motor13">
      <hardwareInterface>PositionJointInterface</hardwareInterface>
      <mechanicalReduction>1</mechanicalReduction>
    </actuator>
  </transmission>
  <transmission name="tran14">
    <type>transmission_interface/SimpleTransmission</type>
    <joint name="R_joint7">
      <hardwareInterface>hardware_interface/PositionJointInterface</hardwareInterface>
    </joint>
    <actuator name="motor14">
      <hardwareInterface>PositionJointInterface</hardwareInterface>
      <mechanicalReduction>1</mechanicalReduction>
    </actuator>
  </transmission>
  <transmission name="tran17">
    <type>transmission_interface/SimpleTransmission</type>
    <joint name="R_left_joint">
      <hardwareInterface>hardware_interface/PositionJointInterface</hardwareInterface>
    </joint>
    <actuator name="motor17">
      <hardwareInterface>PositionJointInterface</hardwareInterface>
      <mechanicalReduction>1</mechanicalReduction>
    </actuator>
  </transmission>
  <transmission name="tran18">
    <type>transmission_interface/SimpleTransmission</type>
    <joint name="R_right_joint">
      <hardwareInterface>hardware_interface/PositionJointInterface</hardwareInterface>
    </joint>
    <actuator name="motor18">
      <hardwareInterface>PositionJointInterface</hardwareInterface>
      <mechanicalReduction>1</mechanicalReduction>
    </actuator>
  </transmission>

<gazebo reference="base_link">
  <visual name="gazeboo_color_base_link">
    <material>
      <script>
        <uri>file://media/materials/scripts/gazebo.material</uri>
        <name>Gazebo/Grey</name>
      </script>
    </material>
  </visual>
</gazebo>

<gazebo reference="L_Link0">
  <visual name="gazebo_color_Link7">
    <material>
      <ambient>0.792156862745098 0.819607843137255 0.933333333333333 1</ambient>
      <diffuse>0.792156862745098 0.819607843137255 0.933333333333333 1</diffuse>
      <specular>0.1 0.1 0.1 1</specular>
      <emissive>0 0 0 0</emissive>
    </material>
  </visual>
</gazebo>

<gazebo reference="L_Link1">
  <visual name="gazebo_color_Link1">
    <material>
      <script>
        <uri>file://media/materials/scripts/gazebo.material</uri>
        <name>Gazebo/FlatBlack</name>
      </script>
    </material>
  </visual>
</gazebo>

<gazebo reference="L_Link2">
  <visual name="gazebo_color_Link2">
    <material>
      <script>
        <uri>file://media/materials/scripts/gazebo.material</uri>
        <name>Gazebo/FlatBlack</name>
      </script>
    </material>
  </visual>
</gazebo>

<gazebo reference="L_Link3">
  <visual name="gazebo_color_Link3">
    <material>
      <script>
        <uri>file://media/materials/scripts/gazebo.material</uri>
        <name>Gazebo/FlatBlack</name>
      </script>
    </material>
   </visual>
</gazebo>

<gazebo reference="L_Link4">
  <visual name="gazebo_color_Link4">
    <material>
      <script>
        <uri>file://media/materials/scripts/gazebo.material</uri>
        <name>Gazebo/FlatBlack</name>
      </script>
    </material>
  </visual>
</gazebo>

<gazebo reference="L_Link5">
  <visual name="gazebo_color_Link5">
    <material>
      <script>
        <uri>file://media/materials/scripts/gazebo.material</uri>
        <name>Gazebo/FlatBlack</name>
      </script>
    </material>
  </visual>
</gazebo>

<gazebo reference="L_Link6">
  <visual name="gazebo_color_Link6">
    <material>
      <script>
        <uri>file://media/materials/scripts/gazebo.material</uri>
        <name>Gazebo/FlatBlack</name>
      </script>
    </material>
  </visual>
</gazebo>

<gazebo reference="L_Link7">
  <visual name="gazebo_color_Link7">
    <material>
      <ambient>0.792156862745098 0.819607843137255 0.933333333333333 1</ambient>
      <diffuse>0.792156862745098 0.819607843137255 0.933333333333333 1</diffuse>
      <specular>0.1 0.1 0.1 1</specular>
      <emissive>0 0 0 0</emissive>
    </material>
  </visual>
  <implicitSpringDamper>1</implicitSpringDamper>
  <kp>100000000.0</kp>
  <kd>1.0</kd>
  <mu1>200</mu1>
  <mu2>200</mu2>
  <maxVel>0.1</maxVel>
  <minDepth>0.010</minDepth>
</gazebo>

<gazebo reference="L_left_finger">
  <visual name="gazebo_color_left_gripper">
    <material>
      <ambient>0.792156862745098 0.819607843137255 0.933333333333333 1</ambient>
      <diffuse>0.792156862745098 0.819607843137255 0.933333333333333 1</diffuse>
      <specular>0.1 0.1 0.1 1</specular>
      <emissive>0 0 0 0</emissive>
    </material>
  </visual>
  <implicitSpringDamper>1</implicitSpringDamper>
  <kp>100000000.0</kp>
  <kd>1.0</kd>
  <mu1>200</mu1>
  <mu2>200</mu2>
  <maxVel>0.1</maxVel>
  <minDepth>0.010</minDepth>
</gazebo>

<gazebo reference="L_right_finger">
  <visual name="gazebo_color_right_gripper">
    <material>
      <ambient>0.792156862745098 0.819607843137255 0.933333333333333 1</ambient>
      <diffuse>0.792156862745098 0.819607843137255 0.933333333333333 1</diffuse>
      <specular>0.1 0.1 0.1 1</specular>
      <emissive>0 0 0 0</emissive>
    </material>
  </visual>
  <implicitSpringDamper>1</implicitSpringDamper>
  <kp>100000000.0</kp>
  <kd>1.0</kd>
  <mu1>200</mu1>
  <mu2>200</mu2>
  <maxVel>0.1</maxVel>
  <minDepth>0.010</minDepth>
</gazebo>

<gazebo reference="R_Link0">
   <visual name="gazebo_color_Link7">
    <material>
      <ambient>0.792156862745098 0.819607843137255 0.933333333333333 1</ambient>
      <diffuse>0.792156862745098 0.819607843137255 0.933333333333333 1</diffuse>
      <specular>0.1 0.1 0.1 1</specular>
      <emissive>0 0 0 0</emissive>
    </material>
  </visual>
</gazebo>


<gazebo reference="R_Link1">
  <visual name="gazebo_color_R_Link1">
    <material>
      <script>
        <uri>file://media/materials/scripts/gazebo.material</uri>
        <name>Gazebo/FlatBlack</name>
      </script>
    </material>
  </visual>
</gazebo>

<gazebo reference="R_Link2">
  <visual name="gazebo_color_R_Link2">
    <material>
      <script>
        <uri>file://media/materials/scripts/gazebo.material</uri>
        <name>Gazebo/FlatBlack</name>
      </script>
    </material>
  </visual>
</gazebo>

<gazebo reference="R_Link3">
  <visual name="gazebo_color_R_Link3">
    <material>
      <script>
        <uri>file://media/materials/scripts/gazebo.material</uri>
        <name>Gazebo/FlatBlack</name>
      </script>
    </material>
   </visual>
</gazebo>

<gazebo reference="R_Link4">
  <visual name="gazebo_color_R_Link4">
    <material>
      <script>
        <uri>file://media/materials/scripts/gazebo.material</uri>
        <name>Gazebo/FlatBlack</name>
      </script>
    </material>
  </visual>
</gazebo>

<gazebo reference="R_Link5">
  <visual name="gazebo_color_R_Link5">
    <material>
      <script>
        <uri>file://media/materials/scripts/gazebo.material</uri>
        <name>Gazebo/FlatBlack</name>
      </script>
    </material>
  </visual>
</gazebo>

<gazebo reference="R_Link6">
  <visual name="gazebo_color_R_Link6">
    <material>
      <script>
        <uri>file://media/materials/scripts/gazebo.material</uri>
        <name>Gazebo/FlatBlack</name>
      </script>
    </material>
  </visual>
</gazebo>

<gazebo reference="R_Link7">
  <visual name="gazebo_color_R_Link7">
    <material>
      <ambient>0.792156862745098 0.819607843137255 0.933333333333333 1</ambient>
      <diffuse>0.792156862745098 0.819607843137255 0.933333333333333 1</diffuse>
      <specular>0.1 0.1 0.1 1</specular>
      <emissive>0 0 0 0</emissive>
    </material>
  </visual>
  <implicitSpringDamper>1</implicitSpringDamper>
  <kp>100000000.0</kp>
  <kd>1.0</kd>
  <mu1>200</mu1>
  <mu2>200</mu2>
  <maxVel>1.0</maxVel>
  <minDepth>0.010</minDepth>
</gazebo>

<gazebo reference="R_left_finger">
  <visual name="gazebo_color_R_left_gripper">
    <material>
      <ambient>0.792156862745098 0.819607843137255 0.933333333333333 1</ambient>
      <diffuse>0.792156862745098 0.819607843137255 0.933333333333333 1</diffuse>
      <specular>0.1 0.1 0.1 1</specular>
      <emissive>0 0 0 0</emissive>
    </material>
  </visual>
  <implicitSpringDamper>1</implicitSpringDamper>
  <kp>100000000.0</kp>
  <kd>1.0</kd>
  <mu1>200</mu1>
  <mu2>200</mu2>
  <maxVel>0.1</maxVel>
  <minDepth>0.010</minDepth>
</gazebo>

<gazebo reference="R_right_finger">
  <visual name="gazebo_color_R_right_gripper">
    <material>
      <ambient>0.792156862745098 0.819607843137255 0.933333333333333 1</ambient>
      <diffuse>0.792156862745098 0.819607843137255 0.933333333333333 1</diffuse>
      <specular>0.1 0.1 0.1 1</specular>
      <emissive>0 0 0 0</emissive>
    </material>
  </visual>
  <implicitSpringDamper>1</implicitSpringDamper>
  <kp>100000000.0</kp>
  <kd>1.0</kd>
  <mu1>200</mu1>
  <mu2>200</mu2>
  <maxVel>0.1</maxVel>
  <minDepth>0.010</minDepth>
</gazebo>

<gazebo>
  <plugin name="gazebo_grasp_fix_1eft" filename="libgazebo_grasp_fix.so">
    <arm>
        <arm_name>left_arm</arm_name>
        <palm_link>L_Link7</palm_link>
        <gripper_link>L_left_finger</gripper_link>
        <gripper_link>L_right_finger</gripper_link>
    </arm>
    <arm>
        <arm_name>right_arm</arm_name>
        <palm_link>R_Link7</palm_link>
        <gripper_link>R_left_finger</gripper_link>
        <gripper_link>R_right_finger</gripper_link>
    </arm>
    <forces_angle_tolerance>100</forces_angle_tolerance>
    <update_rate>4</update_rate>
    <grip_count_threshold>4</grip_count_threshold>
    <max_grip_count>8</max_grip_count>
    <release_tolerance>0.003</release_tolerance>
    <disable_collisions_on_attach>false</disable_collisions_on_attach>
    <contact_topic>__default_topic__</contact_topic>
  </plugin>
</gazebo>

 <gazebo>
    <plugin filename="libgazebo_ros_planar_move.so" name="mpo_500_controller">
      <commandTopic>cmd_vel</commandTopic>
      <leftFrontJoint>wheel_joint1</leftFrontJoint>
      <rightFrontJoint>wheel_joint2</rightFrontJoint>
      <leftRearJoint>wheel_joint3</leftRearJoint>
      <odometryTopic>odom</odometryTopic>
      <odometryFrame>odom</odometryFrame>
      <odometryRate>20.0</odometryRate>
      <robotBaseFrame>base_dummy</robotBaseFrame>
    </plugin>
 </gazebo>

</robot>
